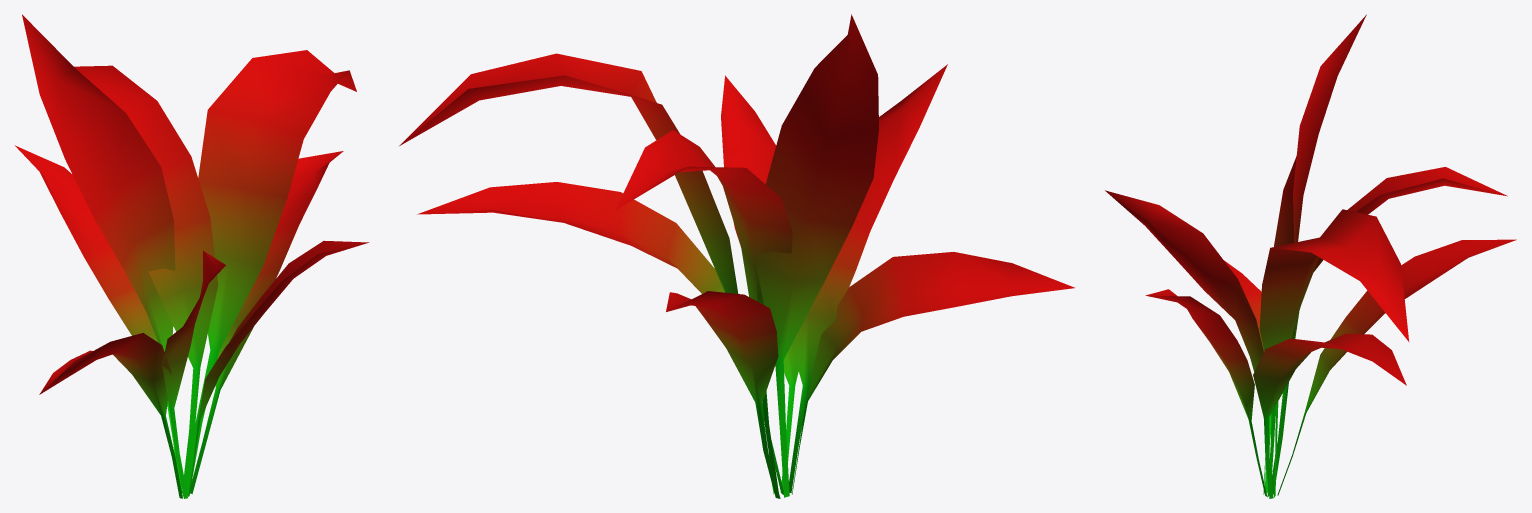
File: Cast - Iron Plant_LOD1_Var5_shdmr.fbx
3 renders of one model, left to right at view 1: azimuth 30°, elevation 25°; view 2: azimuth 150°, elevation 25°; view 3: azimuth 270°, elevation 25°, orthographic. The views are drawn at different scales.
Visible parts, largest first — view 1: _edc0_Var5_LOD1; view 2: _edc0_Var5_LOD1; view 3: _edc0_Var5_LOD1.
Boxes of the visible parts, x1,y1,x2,y2 form: _edc0_Var5_LOD1: (15,14,369,498); _edc0_Var5_LOD1: (399,14,1074,498); _edc0_Var5_LOD1: (1105,14,1516,498).
Size of the model in its own units: 27.58 by 27.93 by 24.17.
